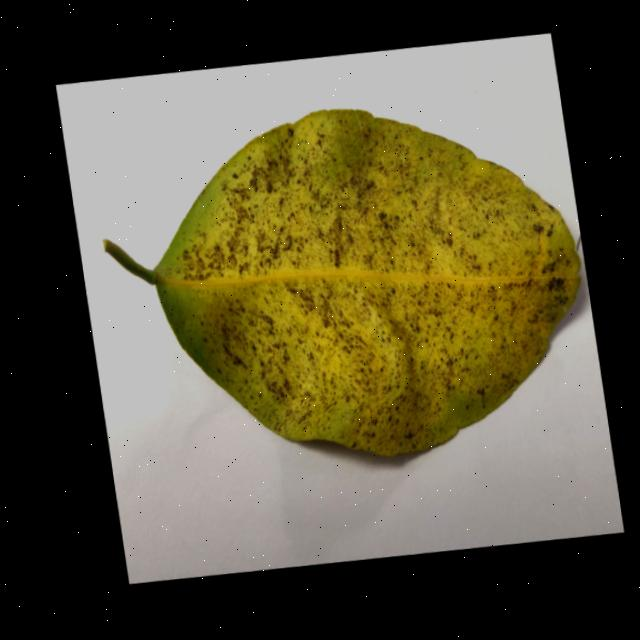melanose: (108, 108, 580, 454)
